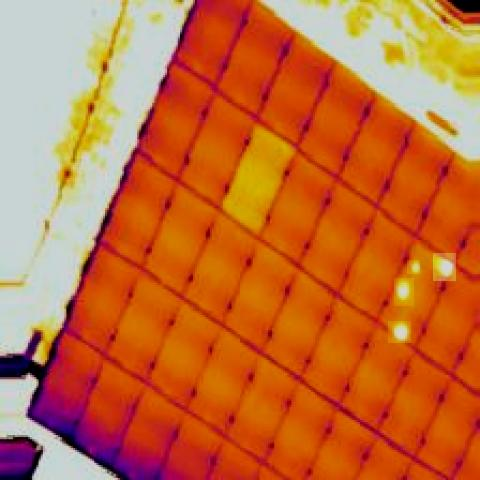fault: (433, 253, 456, 281), (394, 278, 414, 306), (388, 321, 411, 343), (407, 260, 420, 274)
